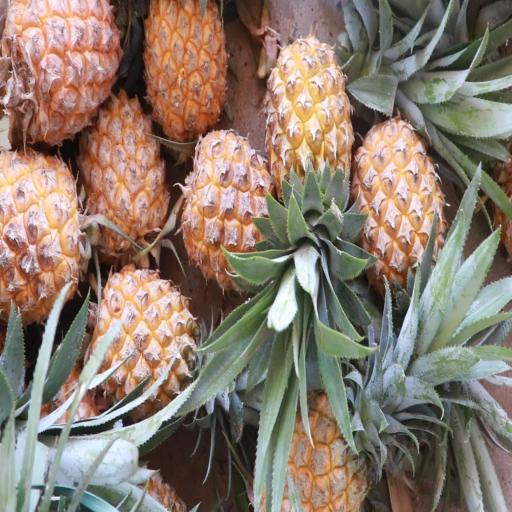Pineapple - v8 v1: (0, 0, 125, 153), (350, 114, 448, 301), (84, 258, 199, 416), (263, 32, 355, 229), (180, 128, 283, 298), (76, 88, 173, 264), (0, 141, 91, 324), (141, 0, 228, 146)
